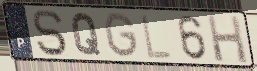6: (176, 14, 207, 62)
G: (102, 11, 141, 60)
H: (205, 14, 250, 66)
L: (139, 12, 174, 61)
Q: (70, 11, 103, 57)
S: (31, 8, 69, 58)
